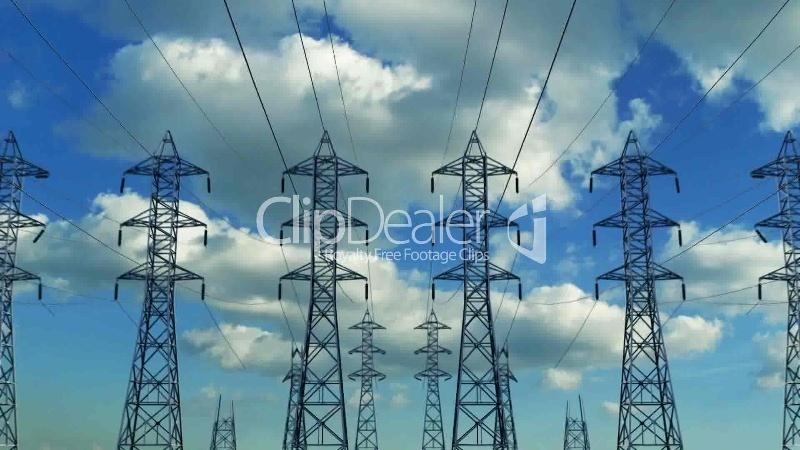power_tower: (582, 129, 686, 443), (107, 141, 208, 445), (428, 134, 522, 440), (276, 143, 361, 444), (4, 143, 49, 446), (403, 305, 453, 447), (343, 304, 380, 444)
